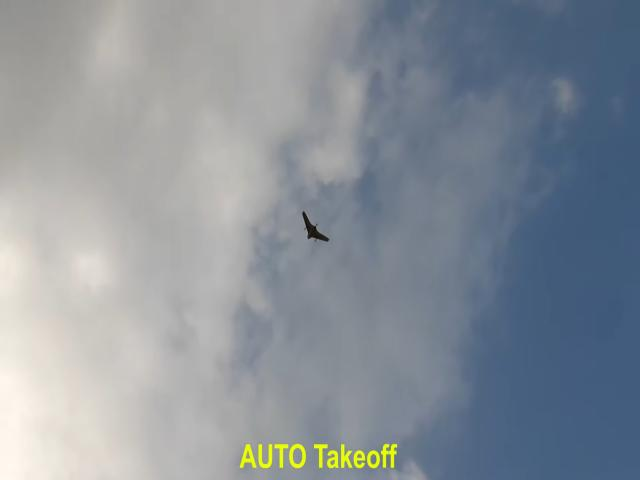plane: (302, 210, 329, 242)
